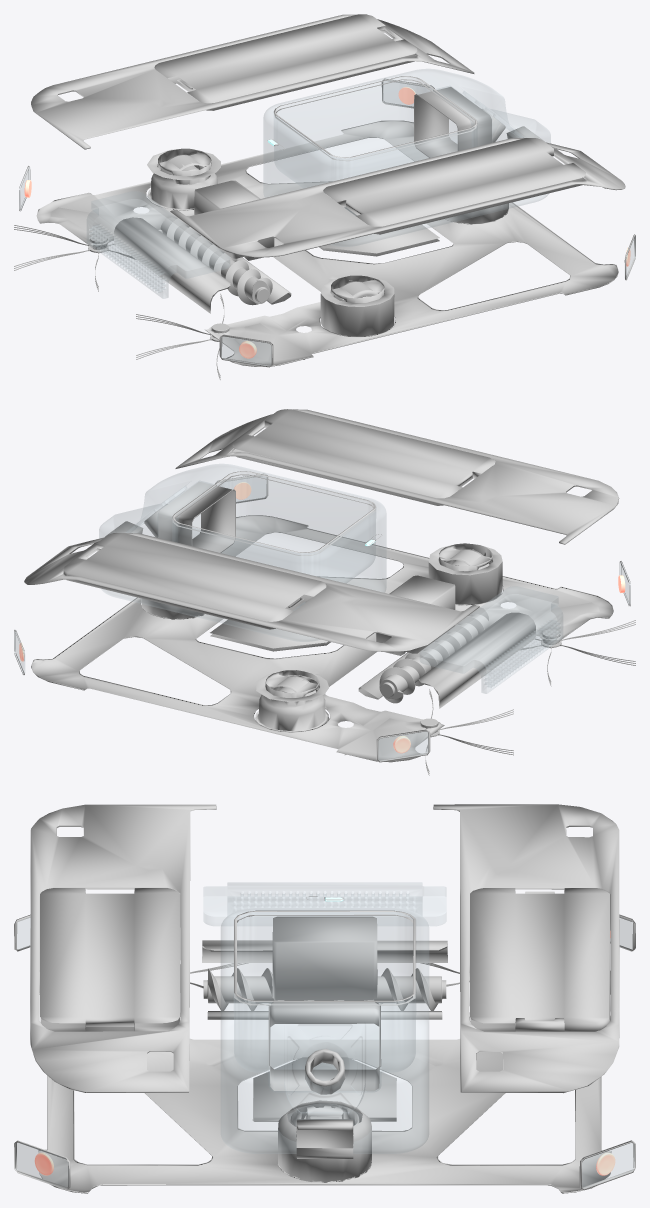
Rendered from smallRobot.glb.
3 views of the same model, one above another, from view 1: azimuth 30°, elevation 25°; view 2: azimuth 150°, elevation 25°; view 3: azimuth 270°, elevation 25° (orthographic). The views are drawn at different scales.
Parts seen in each view (by area): view 1: body_01_mesh_00, glassCover_01_mesh_00, cylinder_01_mesh_00, glass_01_mesh_00, leftSweep_01_mesh_00, rightSweep_01_mesh_00, sensors_01_mesh_00; view 2: body_01_mesh_00, glassCover_01_mesh_00, cylinder_01_mesh_00, glass_01_mesh_00, rightSweep_01_mesh_00, leftSweep_01_mesh_00, sensors_01_mesh_00; view 3: body_01_mesh_00, glassCover_01_mesh_00, cylinder_01_mesh_00, glass_01_mesh_00, sensors_01_mesh_00.
Part boxes in pixels (box(x1,y1,x2,y2)): body_01_mesh_00: box(19, 14, 635, 367); glassCover_01_mesh_00: box(87, 69, 550, 298); cylinder_01_mesh_00: box(158, 217, 272, 305); glass_01_mesh_00: box(19, 81, 635, 365); leftSweep_01_mesh_00: box(14, 225, 135, 291); rightSweep_01_mesh_00: box(136, 293, 304, 380); sensors_01_mesh_00: box(24, 87, 630, 358); body_01_mesh_00: box(14, 409, 630, 762); glassCover_01_mesh_00: box(99, 464, 562, 693); cylinder_01_mesh_00: box(379, 607, 489, 703); glass_01_mesh_00: box(14, 476, 630, 760); rightSweep_01_mesh_00: box(519, 620, 635, 686); leftSweep_01_mesh_00: box(345, 689, 513, 775); sensors_01_mesh_00: box(19, 482, 625, 753); body_01_mesh_00: box(14, 804, 635, 1193); glassCover_01_mesh_00: box(203, 882, 446, 1153); cylinder_01_mesh_00: box(203, 968, 446, 1010); glass_01_mesh_00: box(16, 917, 634, 1188); sensors_01_mesh_00: box(34, 931, 615, 1175).
Bounding box in the file's own units: 0.7495 × 0.1949 × 0.6881.
Materials: 4 (2 with a texture image).
